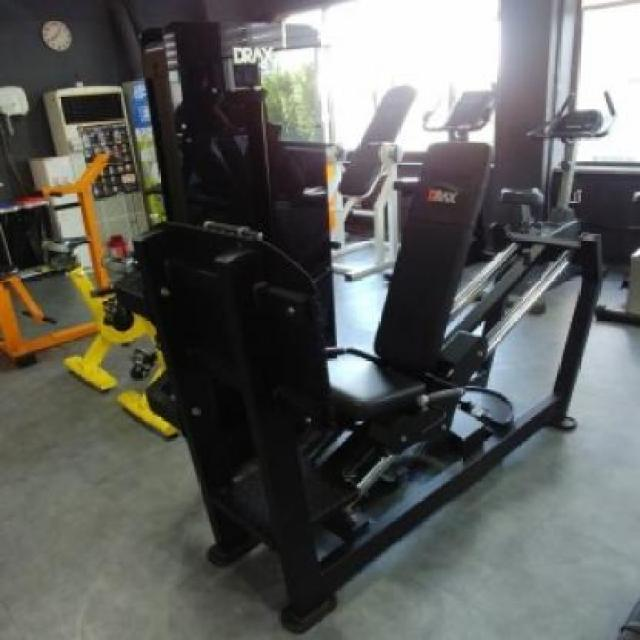leg press: (66, 80, 640, 640)
